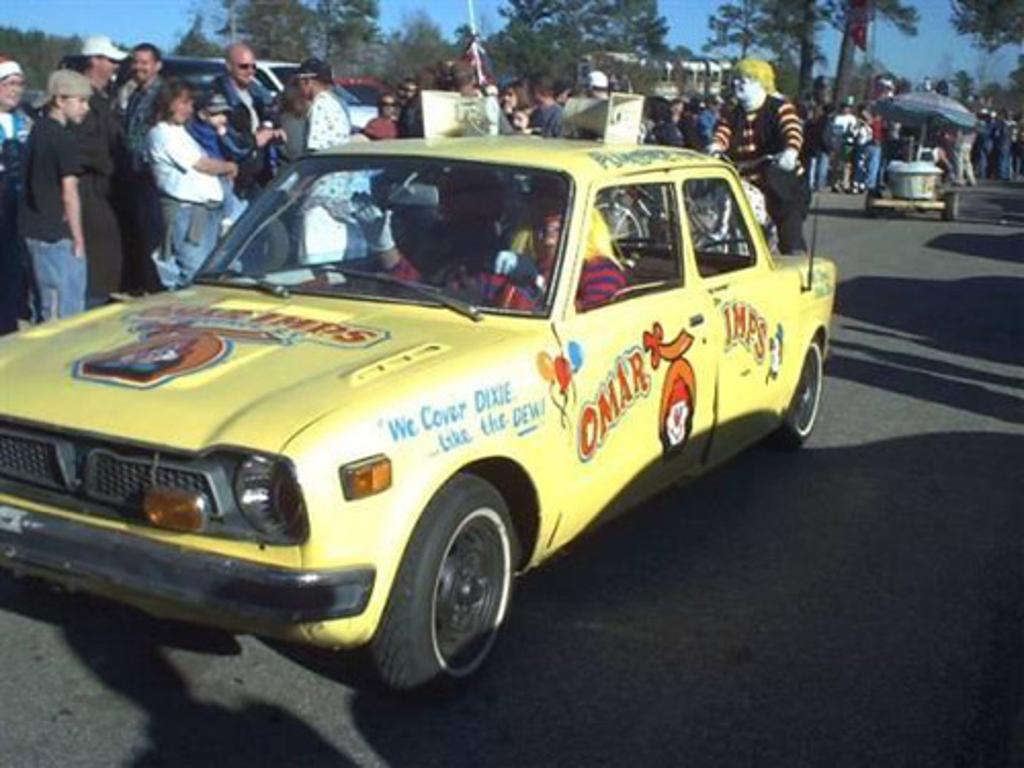face: (538, 219, 568, 259), (733, 72, 762, 101), (68, 95, 91, 126), (132, 52, 156, 81), (236, 52, 257, 84), (3, 77, 25, 107), (174, 93, 195, 123), (99, 55, 120, 81), (209, 110, 229, 130), (513, 112, 530, 130), (382, 97, 397, 117), (503, 89, 517, 108), (298, 78, 310, 99)
